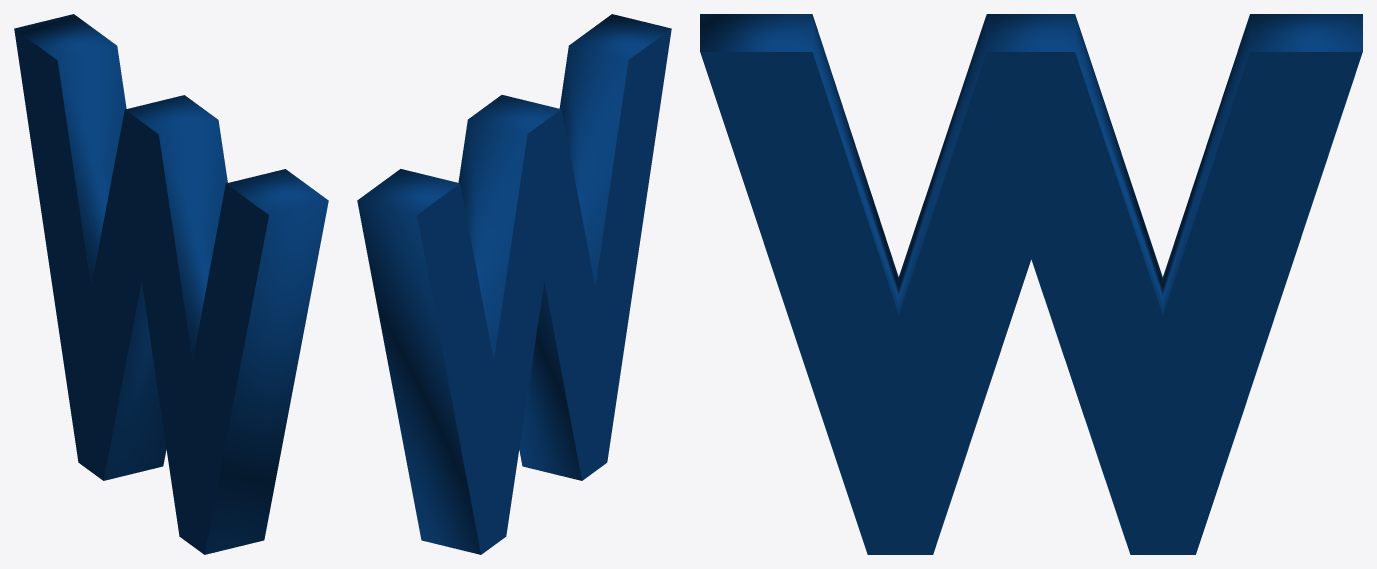
File: W_blue.fbx
3 views of the same model, side by side, from view 1: azimuth 30°, elevation 25°; view 2: azimuth 150°, elevation 25°; view 3: azimuth 270°, elevation 25° (orthographic). The views are drawn at different scales.
Visible parts, largest first — view 1: W_orange; view 2: W_orange; view 3: W_orange.
Boxes of the visible parts, left/top/right/bottom form: W_orange: left=14, top=14, right=328, bottom=554; W_orange: left=357, top=14, right=671, bottom=554; W_orange: left=700, top=14, right=1362, bottom=554.
Size of the model in its own units: 24 by 149 by 177.
